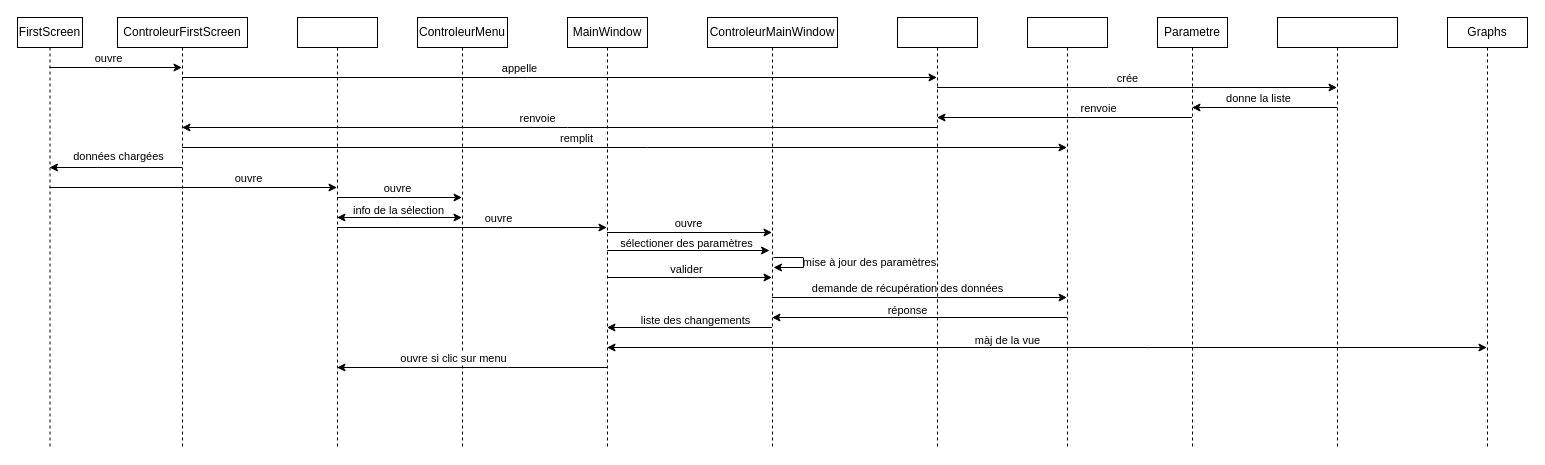
Image size: 1545x465. Some labels were removed from this diagram. The shapes that lost their labels are listed below. From the top down, each one's box as (x1, y1, x2, y2) in pixels, then its label:
(296, 16, 378, 448): Menu
(896, 16, 978, 448): DataBase
(1026, 16, 1108, 448): Cache
(1276, 16, 1398, 448): ParametreWrapper
